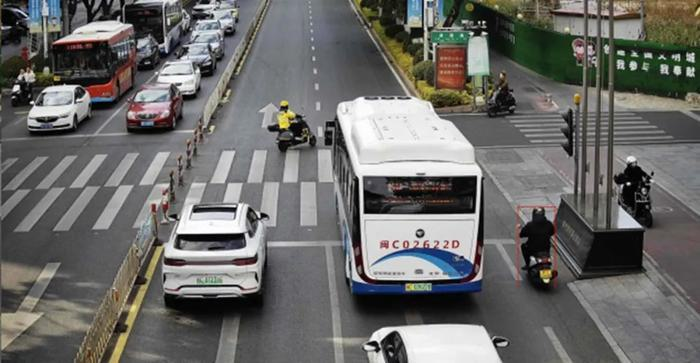bus: (318, 97, 494, 307), (45, 20, 144, 107)
car: (160, 189, 266, 299), (160, 16, 228, 79), (26, 78, 94, 140), (117, 79, 185, 141), (141, 48, 209, 110)
motorbike: (614, 166, 671, 246), (513, 196, 566, 280), (265, 96, 319, 144), (486, 72, 523, 116)
